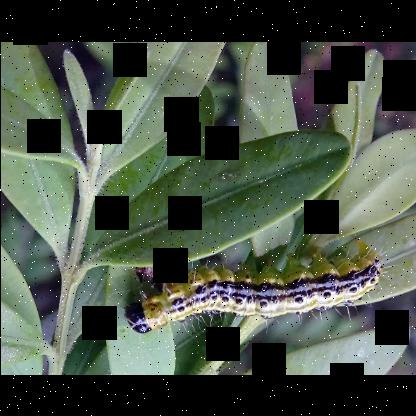oruga: (115, 226, 402, 346)
